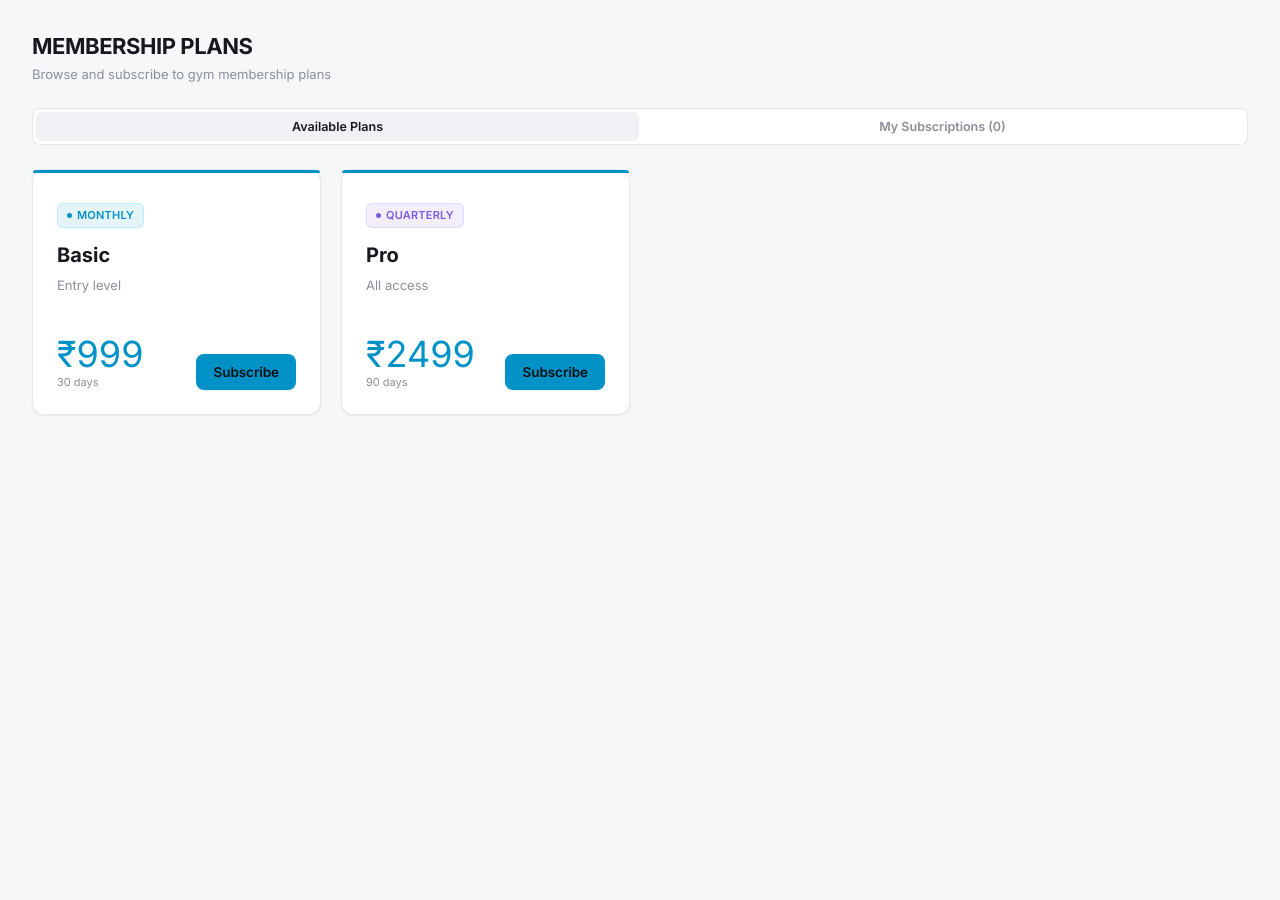
Test case: MemberPlans — payment modal › button switches to Razorpay label when UPI selected
Click the button "Subscribe" next to "999".
click(246, 372)  # box [196,354,296,390]
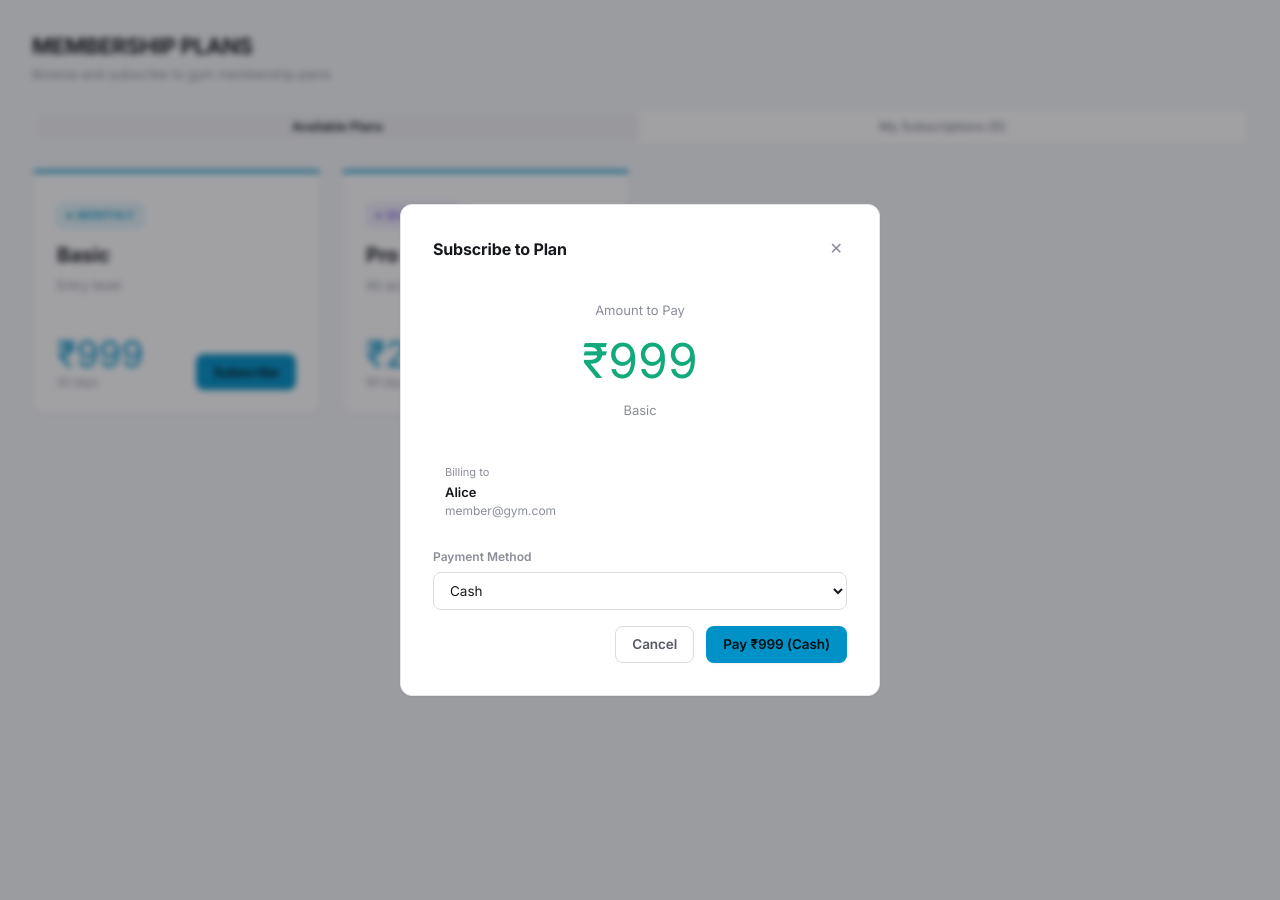
Now the text "Subscribe to Plan" is shown, box [433,237,567,261]
Select "UPI (Razorpay)" in the dropdown at (640, 591), box [433,572,847,610]
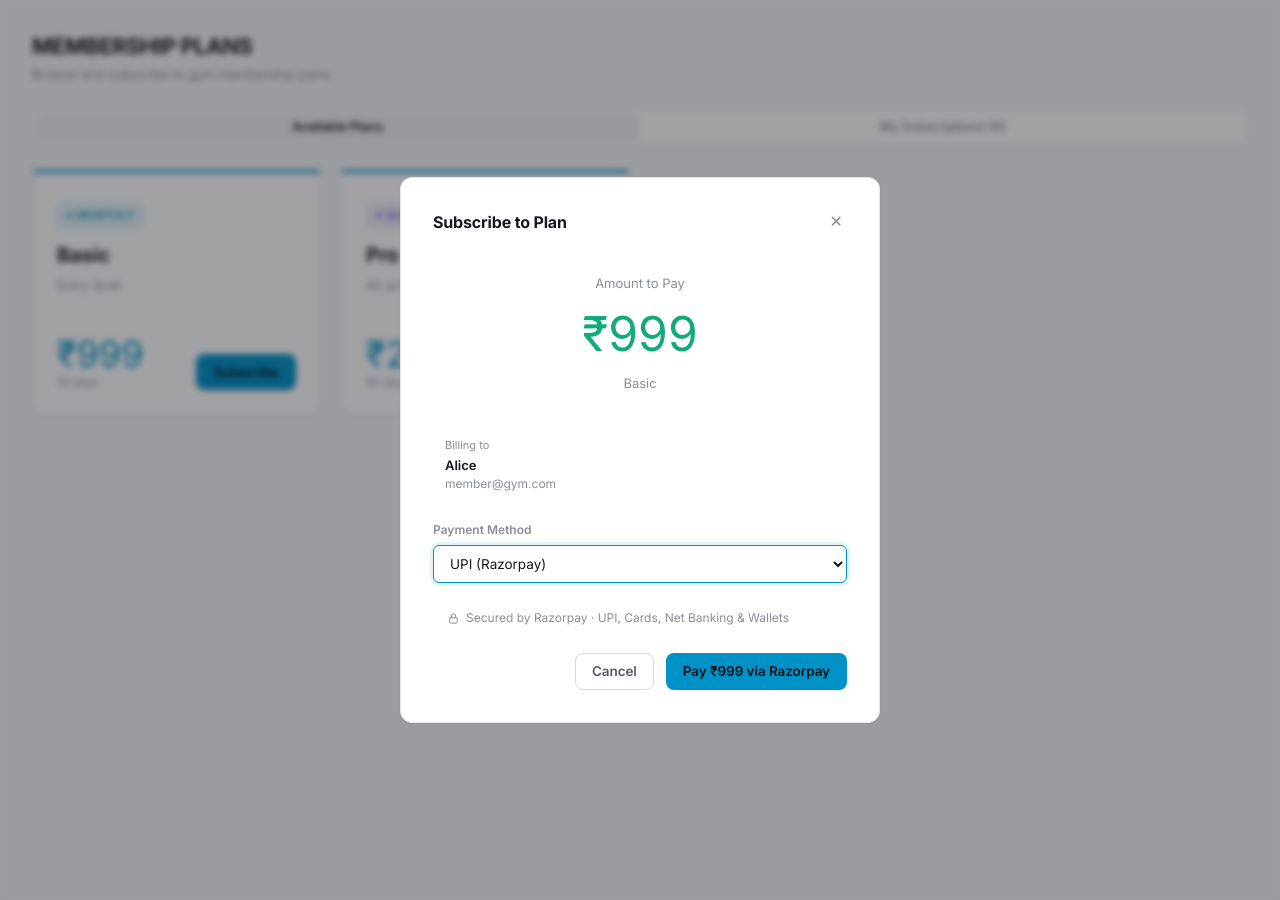
Now the button "Pay ₹999 via Razorpay" is shown, box [666,653,847,690]
